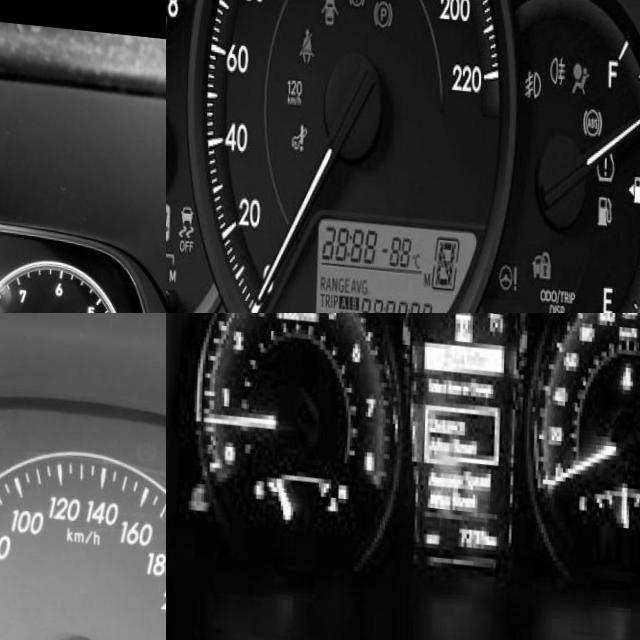Electronic Power Steering: (502, 254, 520, 281)
Seat Belt: (301, 22, 316, 58), (622, 354, 634, 382)
